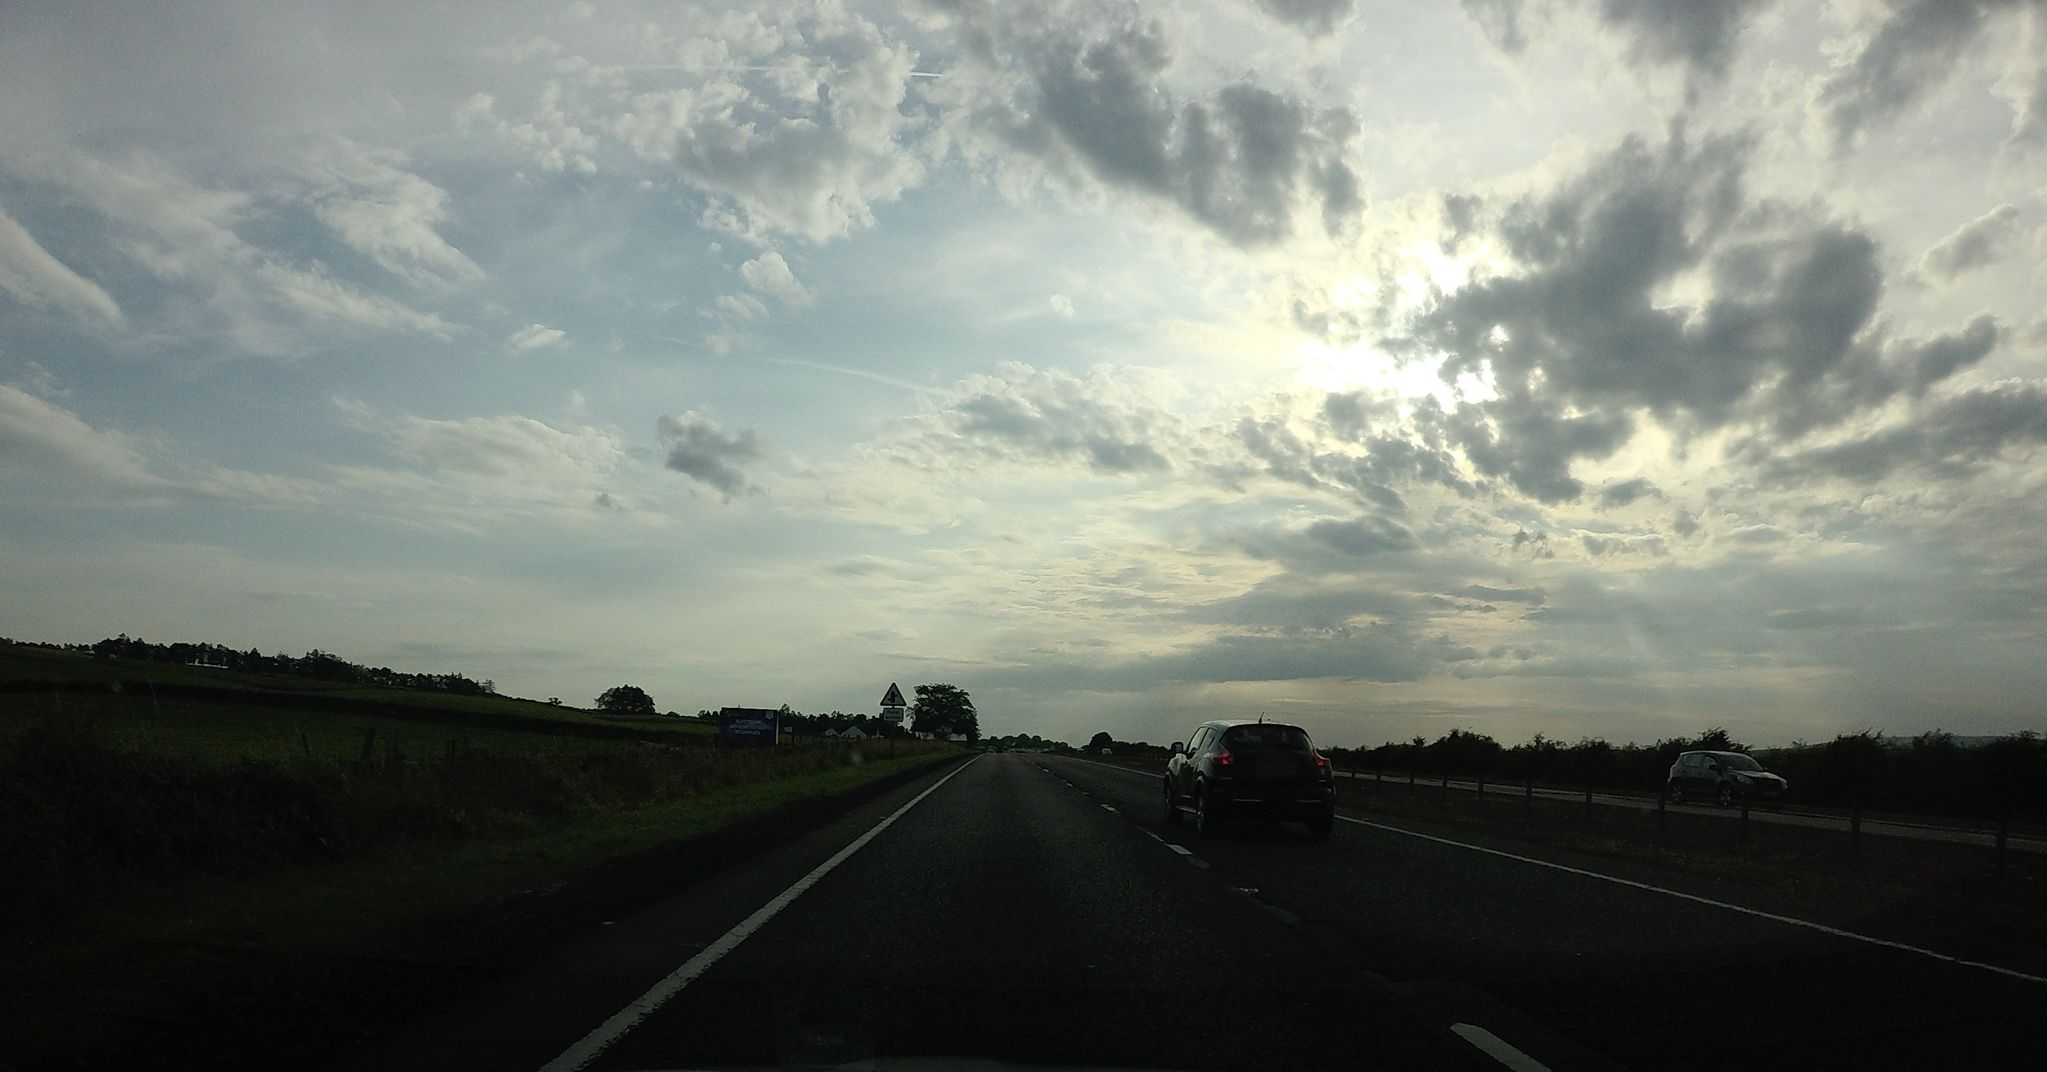car: (1162, 717, 1338, 836), (1667, 747, 1788, 809)
